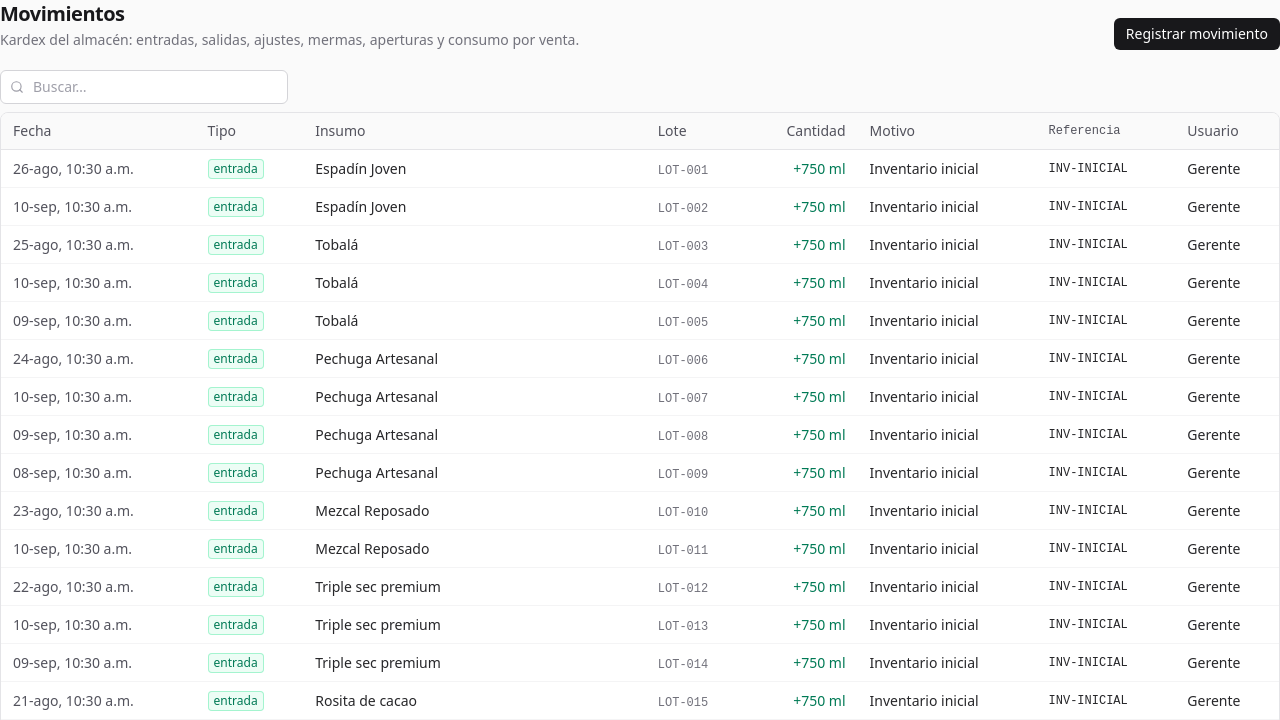
<MovimientosPage> › no deja registrar sin elegir lote
Step 1. Click the button "Registrar movimiento" → click(1197, 34), box [1114, 18, 1279, 50]
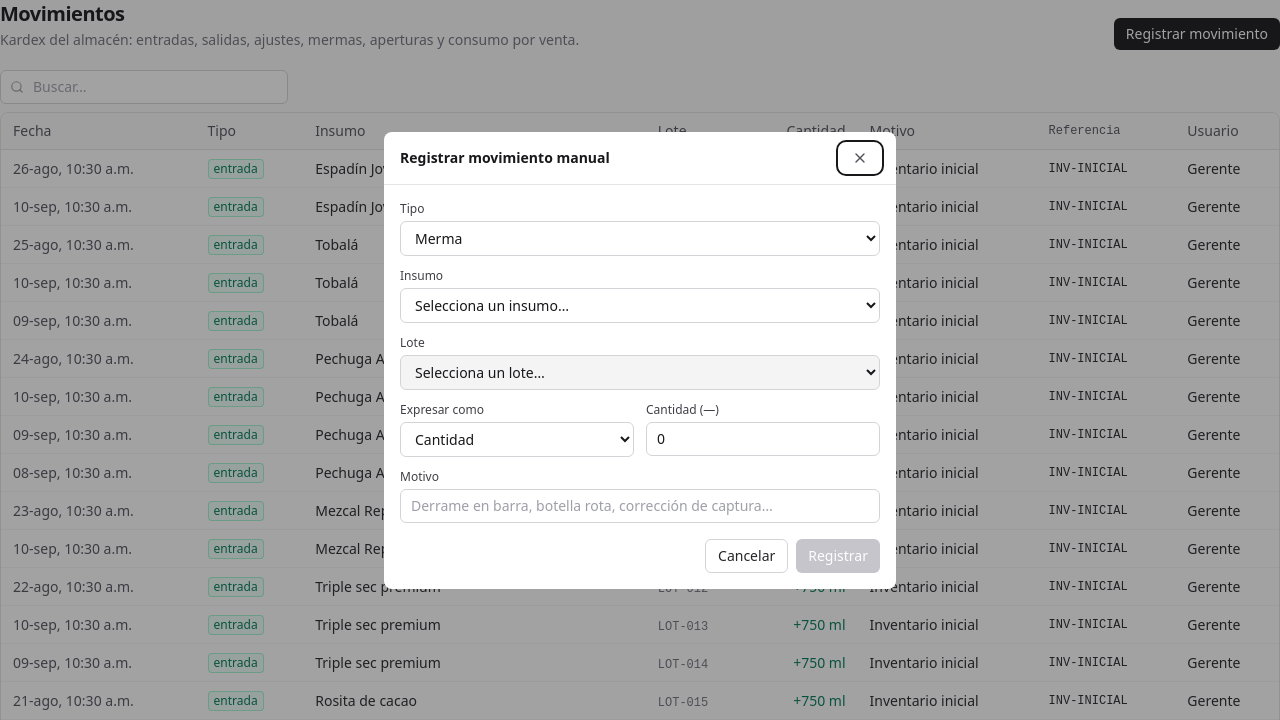
Now the button "Registrar" is disabled, box [796, 538, 880, 572]
